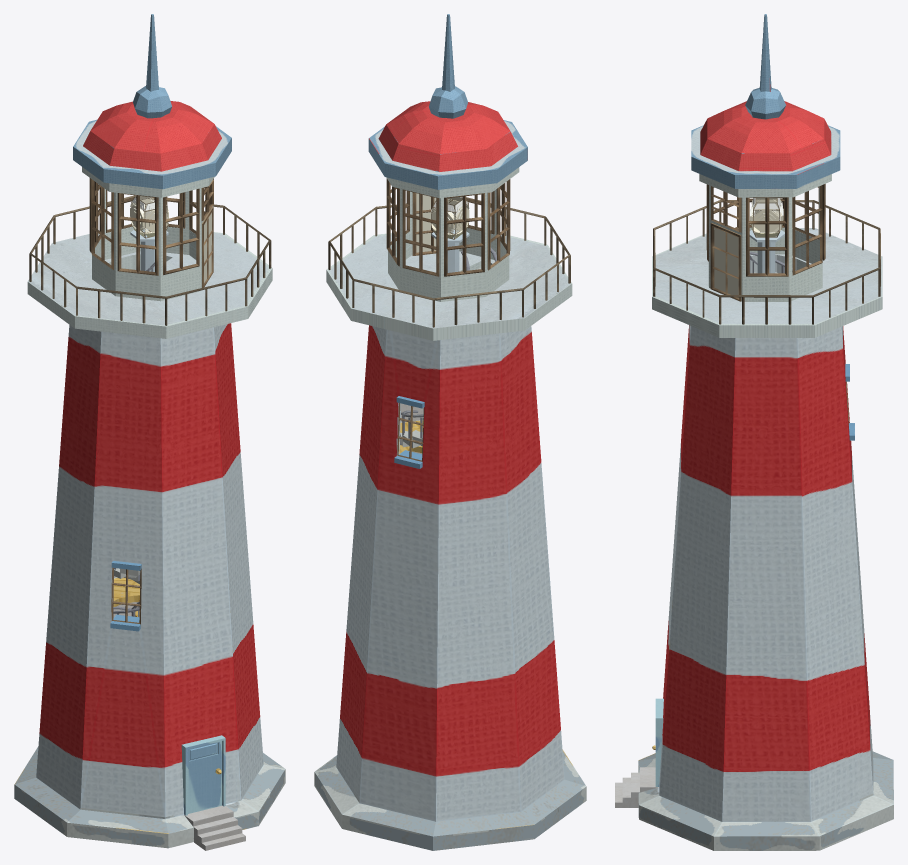
The model's file is lighthouse_finale.fbx.
3 views of the same model, side by side, from view 1: azimuth 30°, elevation 25°; view 2: azimuth 150°, elevation 25°; view 3: azimuth 270°, elevation 25° (orthographic).
Parts seen in each view (by area): view 1: lighthouse, part lighthouse 1, crbIsha, glass of lamp, glass of lamp.001, zabor, Cylinder.001, Cube, window1, DoorKosyk, glass door, projector (+1 smaller); view 2: lighthouse, part lighthouse 1, crbIsha, glass of lamp, glass of lamp.001, zabor, glass door, window2, projector, stair1; view 3: lighthouse, part lighthouse 1, crbIsha, glass of lamp, glass of lamp.001, zabor, glass door, Cube, projector, piedistal, DoorKosyk.
Part boxes in pixels (bbox=[...]): lighthouse: bbox=[14, 323, 285, 848]; part lighthouse 1: bbox=[27, 224, 272, 338]; crbIsha: bbox=[73, 14, 231, 189]; glass of lamp: bbox=[82, 167, 214, 301]; glass of lamp.001: bbox=[89, 178, 213, 275]; zabor: bbox=[29, 195, 271, 325]; Cylinder.001: bbox=[188, 741, 221, 813]; Cube: bbox=[184, 805, 245, 850]; window1: bbox=[110, 561, 141, 631]; DoorKosyk: bbox=[181, 735, 225, 815]; glass door: bbox=[202, 207, 213, 287]; projector: bbox=[130, 196, 168, 237]; lighthouse: bbox=[314, 325, 586, 850]; part lighthouse 1: bbox=[326, 233, 572, 340]; crbIsha: bbox=[368, 14, 527, 189]; glass of lamp: bbox=[386, 167, 519, 301]; glass of lamp.001: bbox=[386, 178, 510, 276]; zabor: bbox=[328, 197, 570, 327]; glass door: bbox=[412, 192, 452, 255]; window2: bbox=[394, 396, 424, 468]; projector: bbox=[431, 197, 469, 238]; stair1: bbox=[400, 247, 496, 448]; lighthouse: bbox=[638, 325, 893, 850]; part lighthouse 1: bbox=[652, 228, 882, 337]; crbIsha: bbox=[691, 14, 840, 188]; glass of lamp: bbox=[699, 174, 831, 301]; glass of lamp.001: bbox=[706, 184, 825, 276]; zabor: bbox=[653, 200, 880, 324]; glass door: bbox=[710, 223, 741, 301]; Cube: bbox=[615, 767, 658, 807]; projector: bbox=[750, 198, 783, 236]; piedistal: bbox=[749, 230, 784, 273]; DoorKosyk: bbox=[655, 698, 663, 786].
Bounding box in the file's own units: 1709 × 5789 × 1866.
